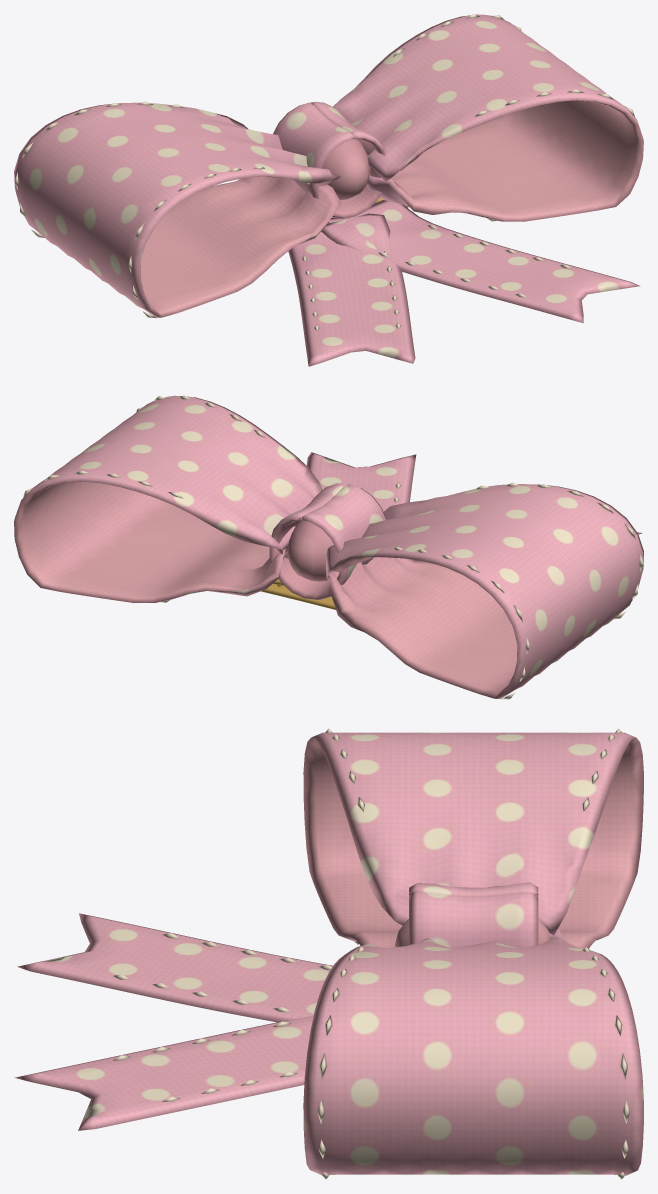
Rendered from hair-bow.glb.
3 renders of one model, top to bottom at view 1: azimuth 30°, elevation 25°; view 2: azimuth 150°, elevation 25°; view 3: azimuth 270°, elevation 25°, orthographic. The views are drawn at different scales.
Visible parts, largest first — view 1: hair-bow_body; view 2: hair-bow_body; view 3: hair-bow_body.
Boxes of the visible parts, x1,y1,x2,y2 form: hair-bow_body: (14,14,643,366); hair-bow_body: (14,395,643,699); hair-bow_body: (14,728,643,1179).
Bounding box in the file's own units: 0.1269 × 0.0299 × 0.0999.
Materials: 1 (1 with a texture image).
